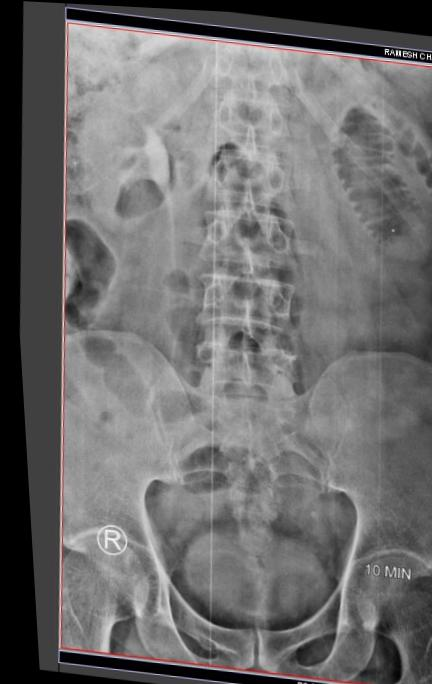bladder: (123, 529, 318, 656)
vertebrae: (171, 51, 279, 130)
